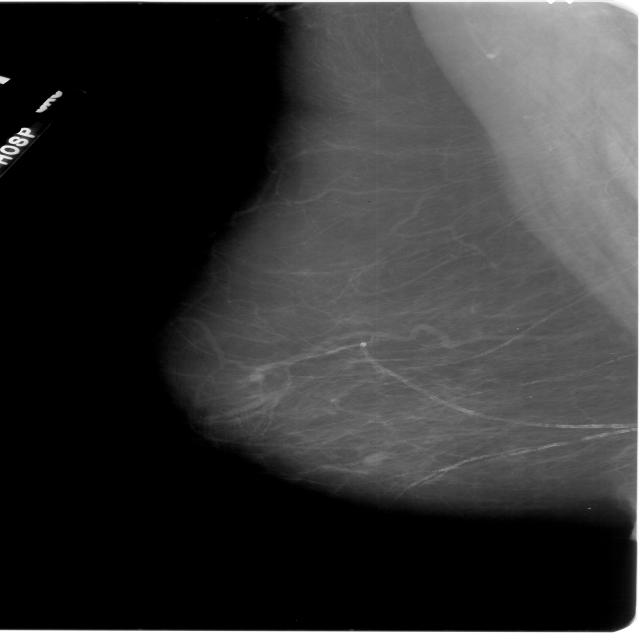normal: (159, 3, 640, 513)
